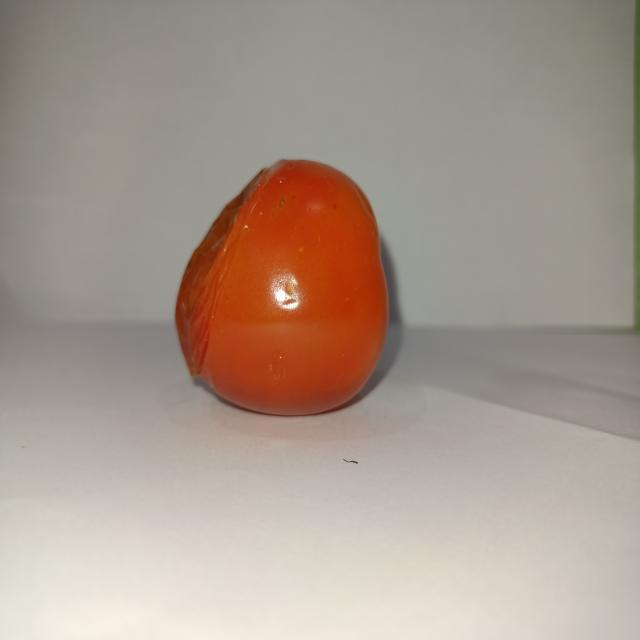Red: (173, 156, 390, 417)
